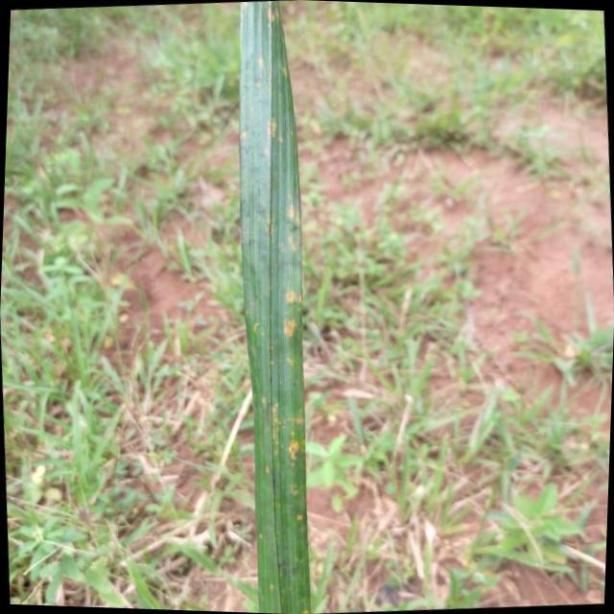Kalium: (233, 0, 308, 614)
